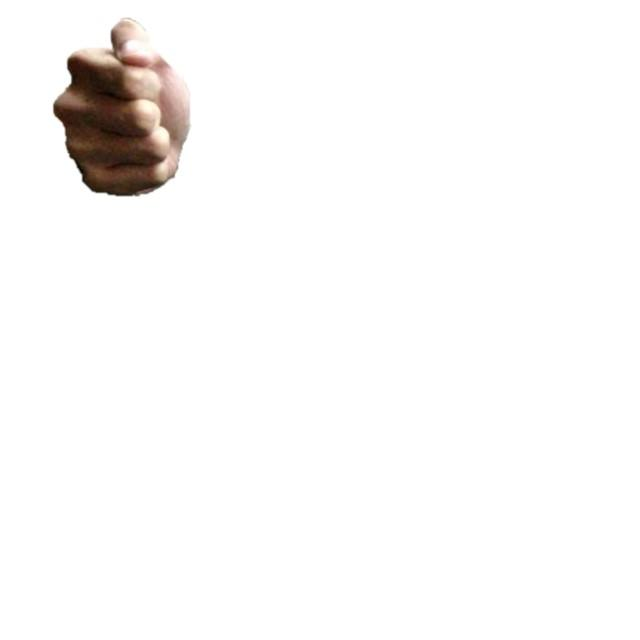gu-: (51, 16, 195, 199)
